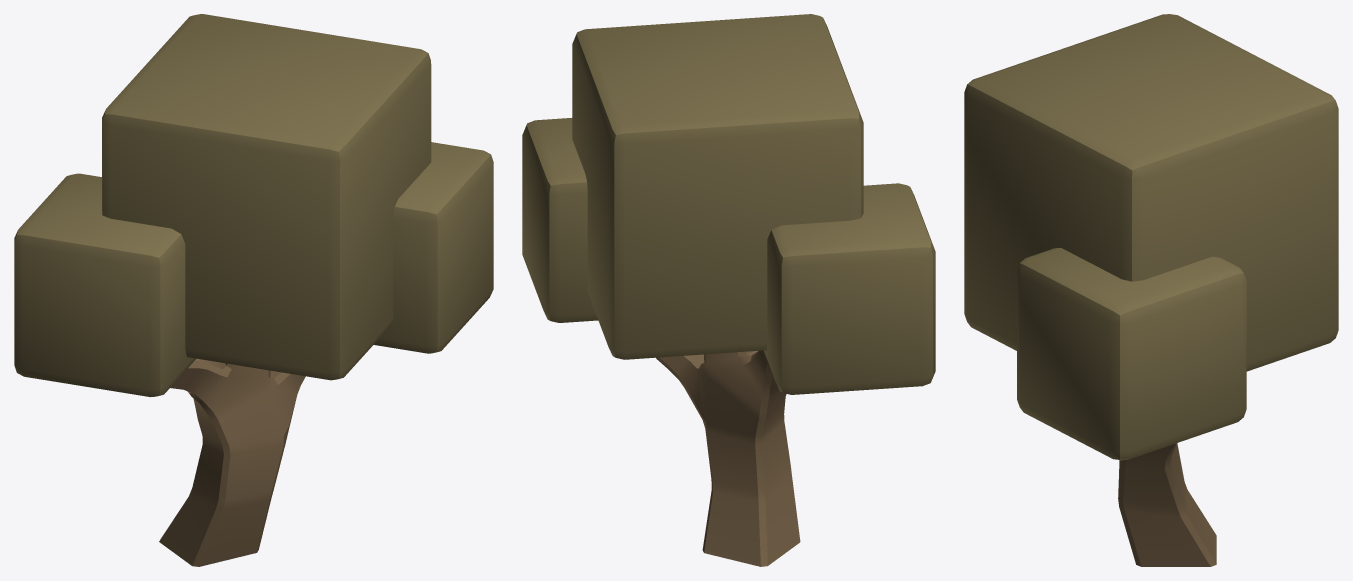
Rendered from Tree_1.glb.
The picture shows the model from 3 angles, left to right: view 1: azimuth 30°, elevation 25°; view 2: azimuth 150°, elevation 25°; view 3: azimuth 270°, elevation 25°; orthographic projection. The views are drawn at different scales.
Visible parts, largest first — view 1: Tree_1; view 2: Tree_1; view 3: Tree_1.
Boxes of the visible parts, bbox=[...] form: Tree_1: bbox=[14, 14, 493, 566]; Tree_1: bbox=[522, 14, 935, 566]; Tree_1: bbox=[964, 14, 1338, 566].
Bounding box in the file's own units: 6.11 × 6.08 × 4.24.
1 material, 1 textured.
